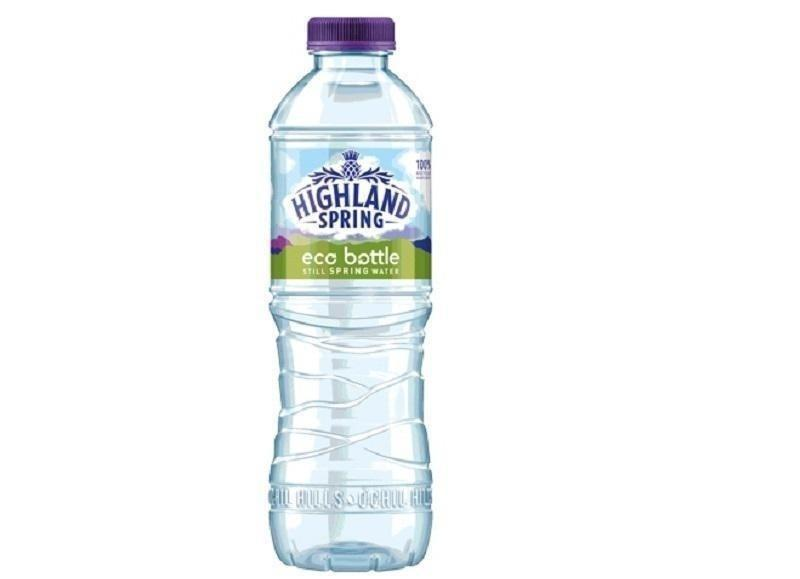bottle-plastic: (265, 9, 438, 576)
